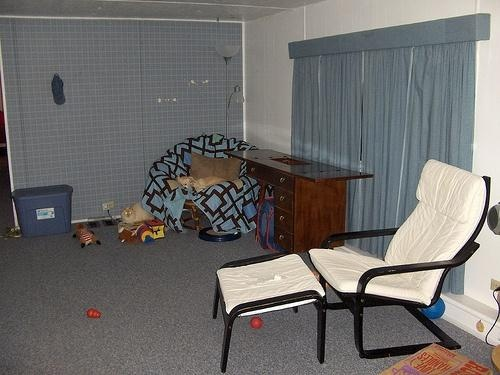cat: (123, 203, 158, 225)
chair: (315, 160, 493, 360), (156, 130, 259, 237)
